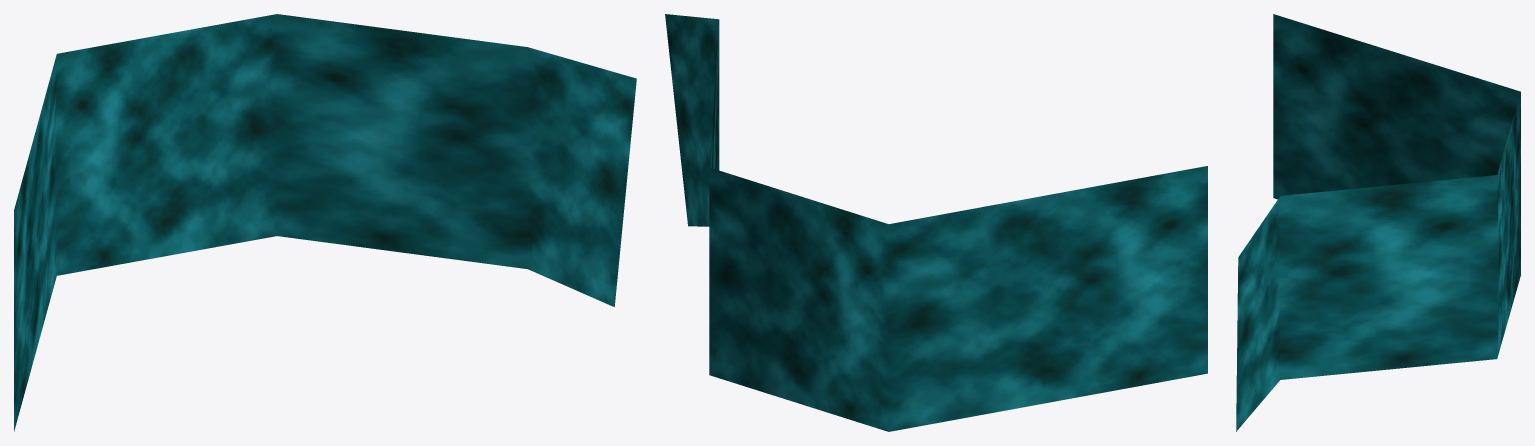
File: MIRKWOOD_FOG.fbx
3 views of the same model, side by side, from view 1: azimuth 30°, elevation 25°; view 2: azimuth 150°, elevation 25°; view 3: azimuth 270°, elevation 25° (orthographic). The views are drawn at different scales.
Parts seen in each view (by area): view 1: MIRKWOOD_FOG; view 2: MIRKWOOD_FOG; view 3: MIRKWOOD_FOG.
Boxes of the visible parts, <box> form: MIRKWOOD_FOG: <box>14,14,636,431</box>; MIRKWOOD_FOG: <box>665,14,1207,431</box>; MIRKWOOD_FOG: <box>1236,14,1520,431</box>.
Bounding box in the file's own units: 235005 × 95338 × 116188.
Materials: 1 (1 with a texture image).
